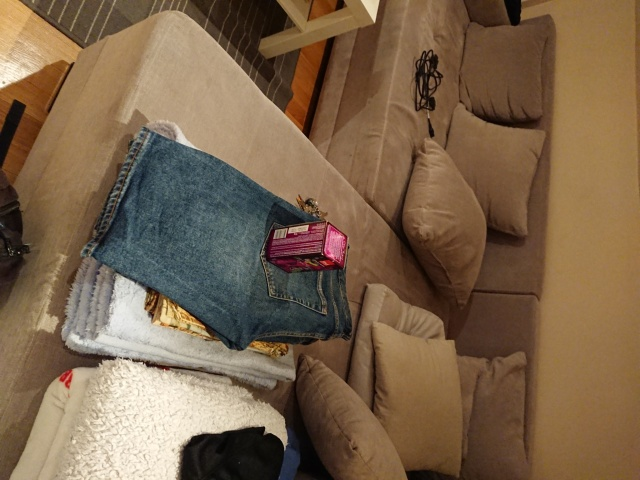Franck Black Currant Tea 60g: (262, 218, 351, 275)
